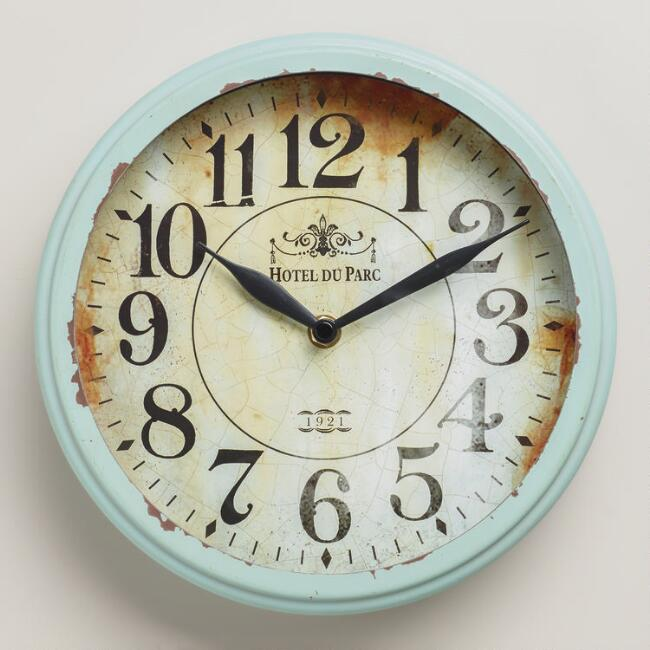clock: (36, 32, 618, 615)
